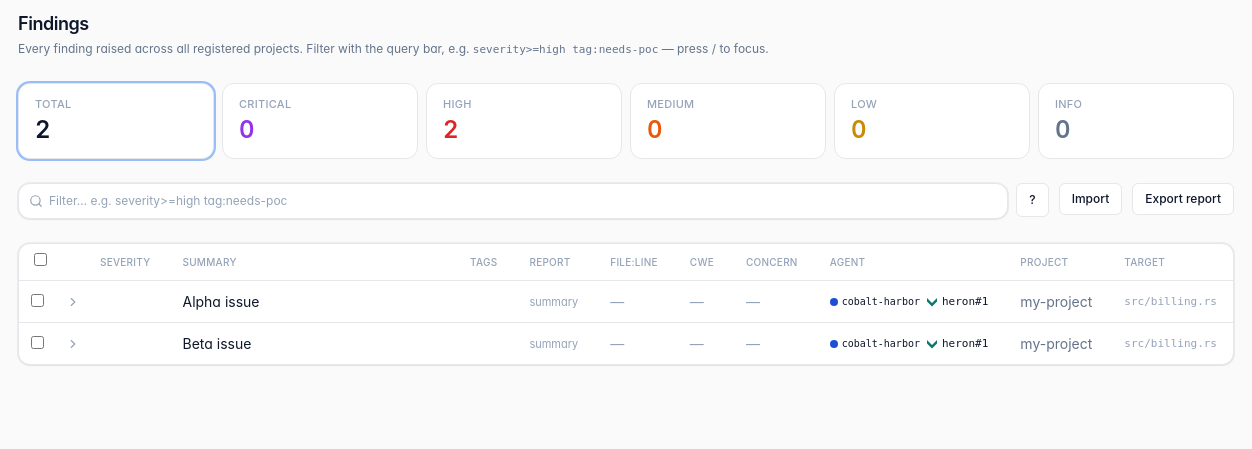
Test: Findings — bulk tagging › selects a row, tags it, reloads, clears the selection and keeps the result
The width and height of the screenshot is (1252, 449).
Expected: the text "Alpha issue" is shown, [182,292,260,310]
Click the checkbox named "Select fa" at (38, 300), box [31,294,44,306]
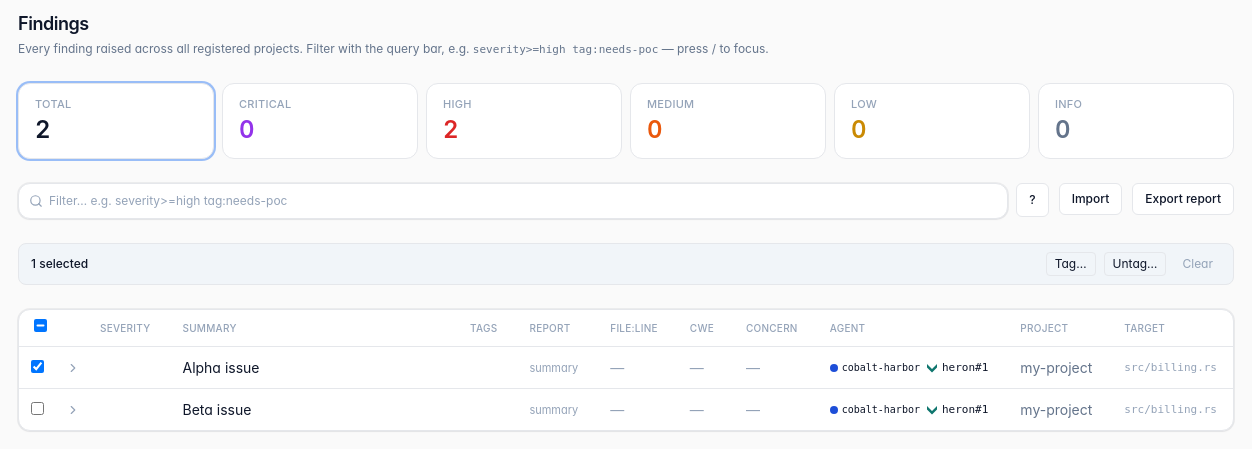
Now the text "1 selected" is shown, box [31,255,88,273]
Click the button "Tag…" at (1071, 264), box [1046,252,1096,276]
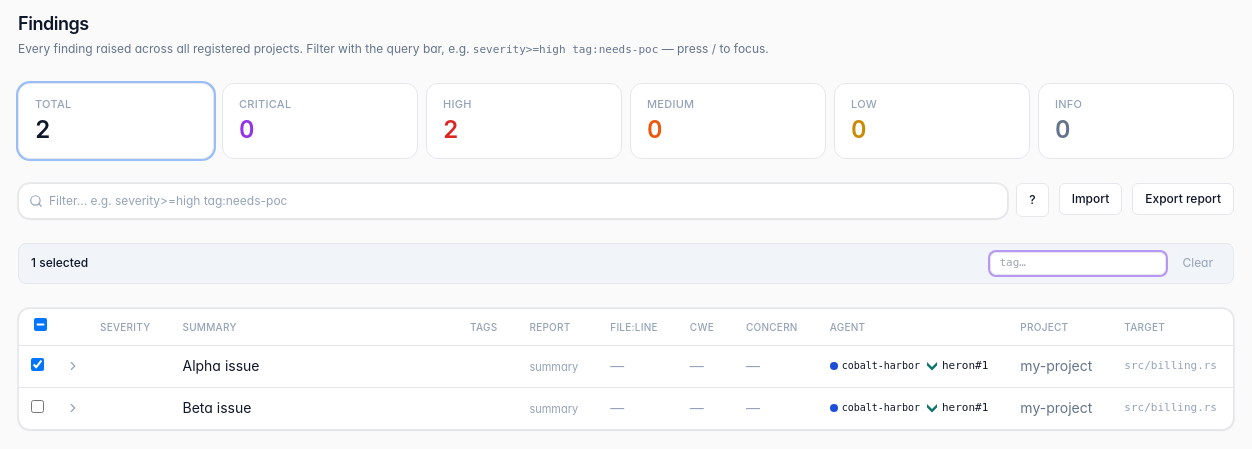
Type "triaged" into the dropdown named "Tag selected findings" at (1078, 263), box [990,252,1166,274]
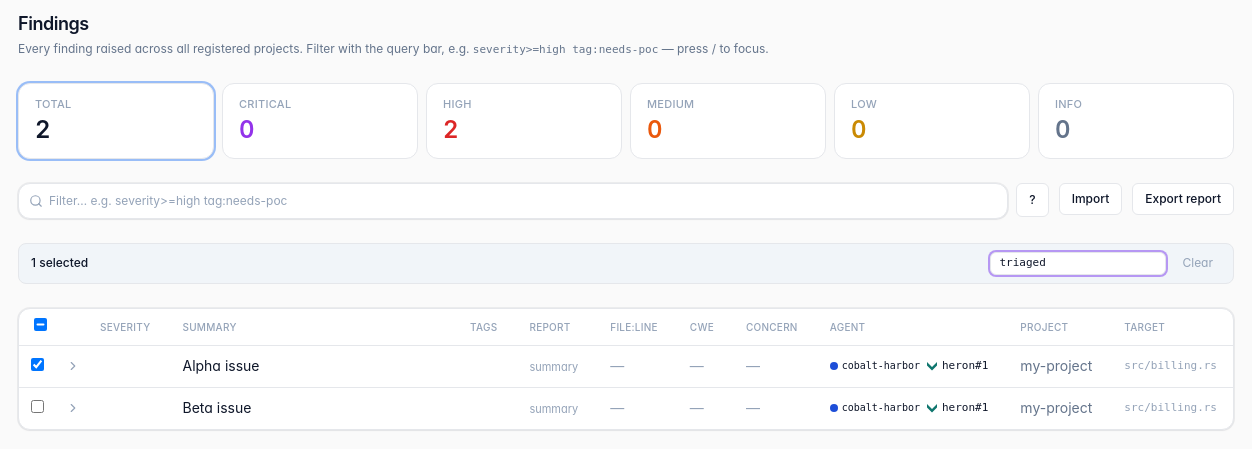
Press Enter in the dropdown named "Tag selected findings", box [990,252,1166,274]
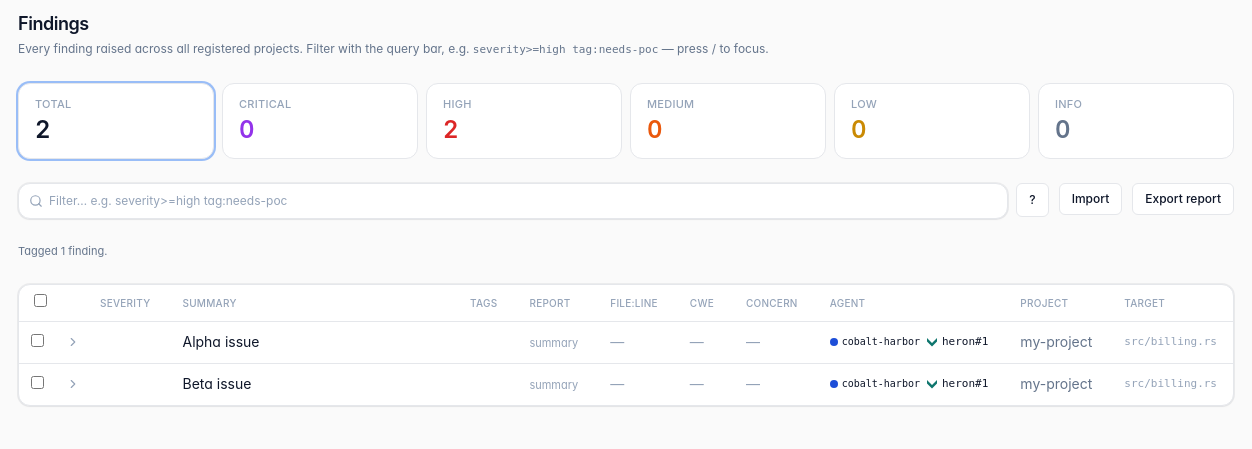
Now the checkbox named "Select fa" is not checked, box [31,334,44,347]
Now the text "1 selected" is gone
Now the message reads "Tagged 1 finding.", box [18,244,107,258]
